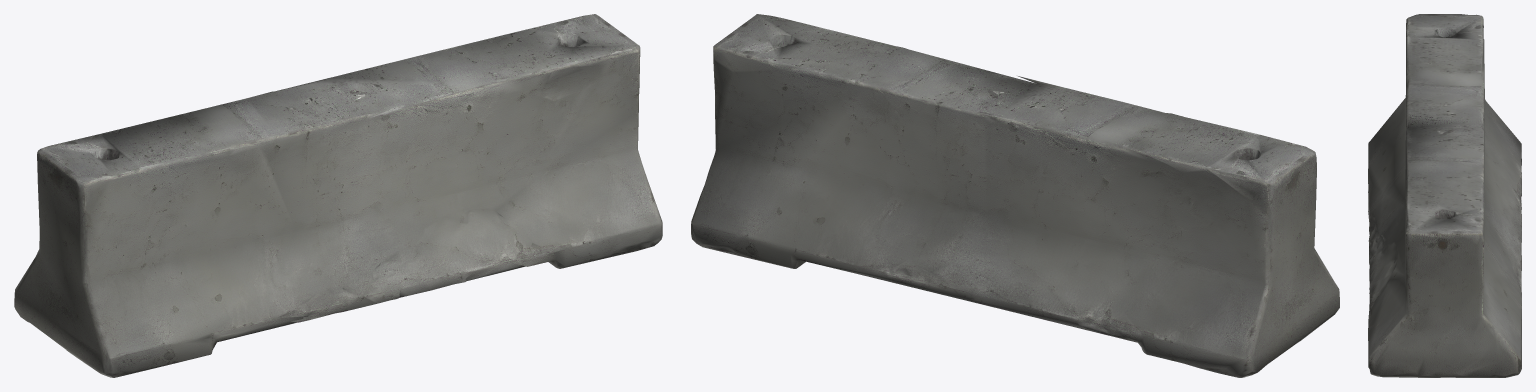
The model's file is Meshy_AI_Concrete_block_0520082924_texture.fbx.
3 renders of one model, left to right at view 1: azimuth 30°, elevation 25°; view 2: azimuth 150°, elevation 25°; view 3: azimuth 270°, elevation 25°, orthographic. The views are drawn at different scales.
Parts seen in each view (by area): view 1: Mesh_0; view 2: Mesh_0; view 3: Mesh_0.
Boxes of the visible parts, bbox=[...] form: Mesh_0: bbox=[14, 14, 662, 377]; Mesh_0: bbox=[691, 14, 1339, 377]; Mesh_0: bbox=[1368, 14, 1521, 377].
Size of the model in its own units: 191 by 59.12 by 56.5.
Materials: 1 (1 with a texture image).
